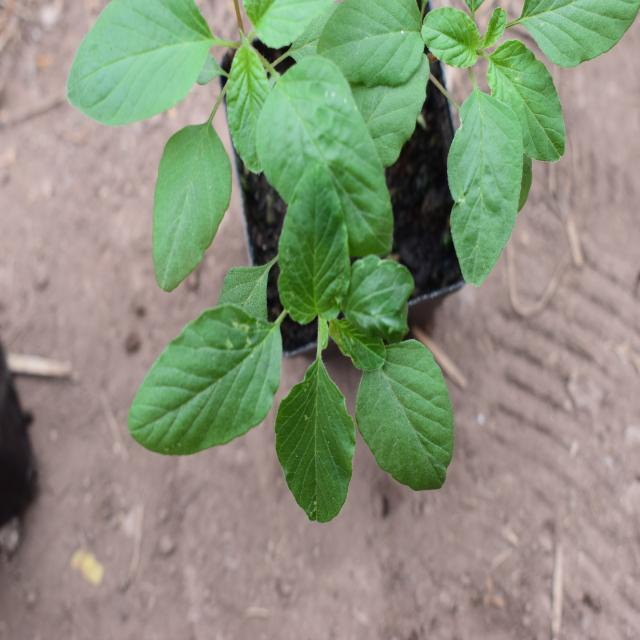pigweed: (138, 186, 472, 529), (97, 0, 385, 226)
